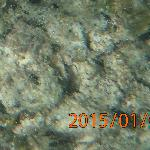dead: (2, 1, 147, 147)
